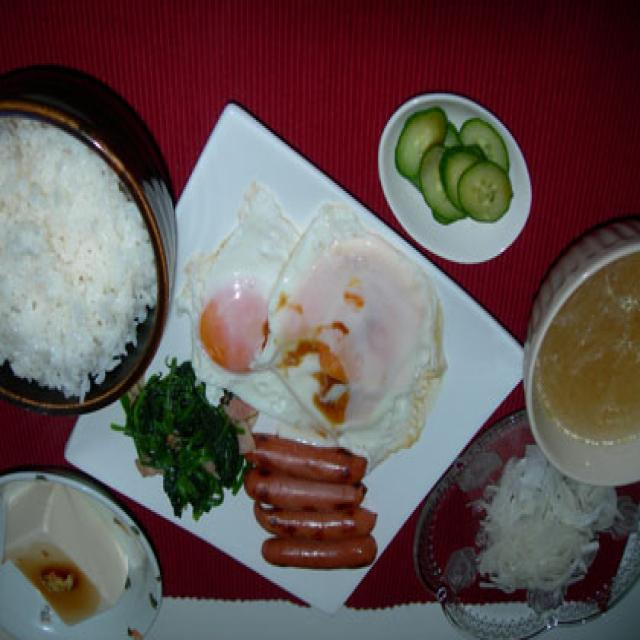Cucumber: (401, 120, 509, 226)
Egg: (199, 245, 430, 398)
Rice: (0, 126, 162, 379)
Sausage: (237, 437, 378, 582)
